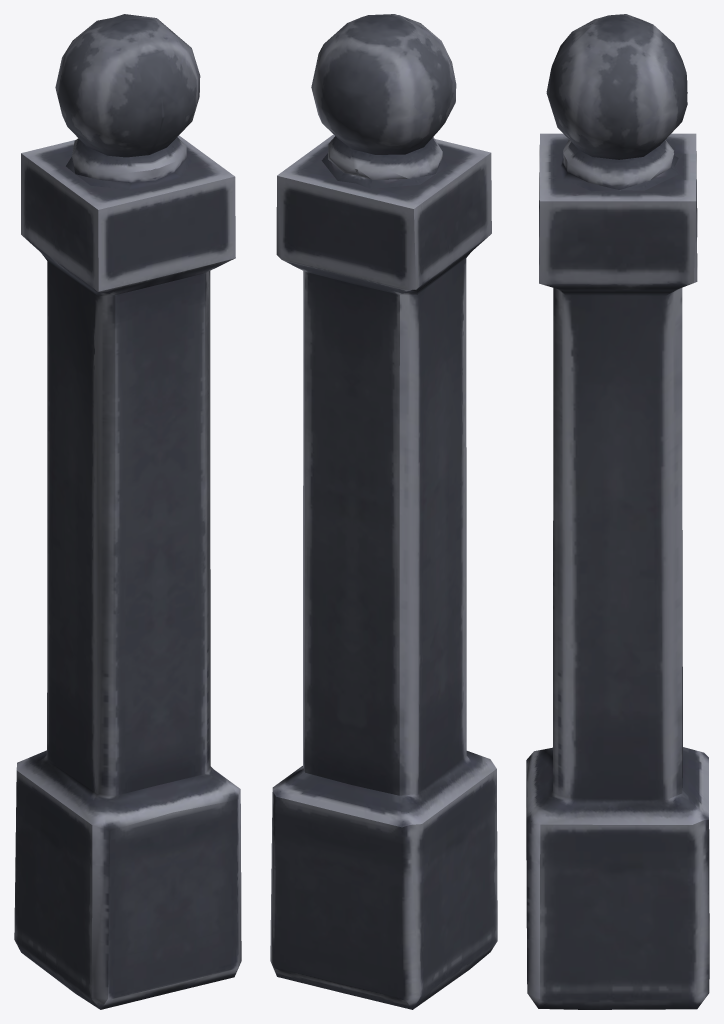
The model's file is railing_post.glb.
3 renders of one model, left to right at view 1: azimuth 30°, elevation 25°; view 2: azimuth 150°, elevation 25°; view 3: azimuth 270°, elevation 25°, orthographic.
Parts seen in each view (by area): view 1: body; view 2: body; view 3: body.
Boxes of the visible parts, x1=… form: body: x1=14, y1=14, x2=241, y2=1009; body: x1=270, y1=14, x2=497, y2=1009; body: x1=526, y1=14, x2=709, y2=1009.
Bounding box in the file's own units: 0.1921 × 1.16 × 0.2016.
1 material, 1 textured.
